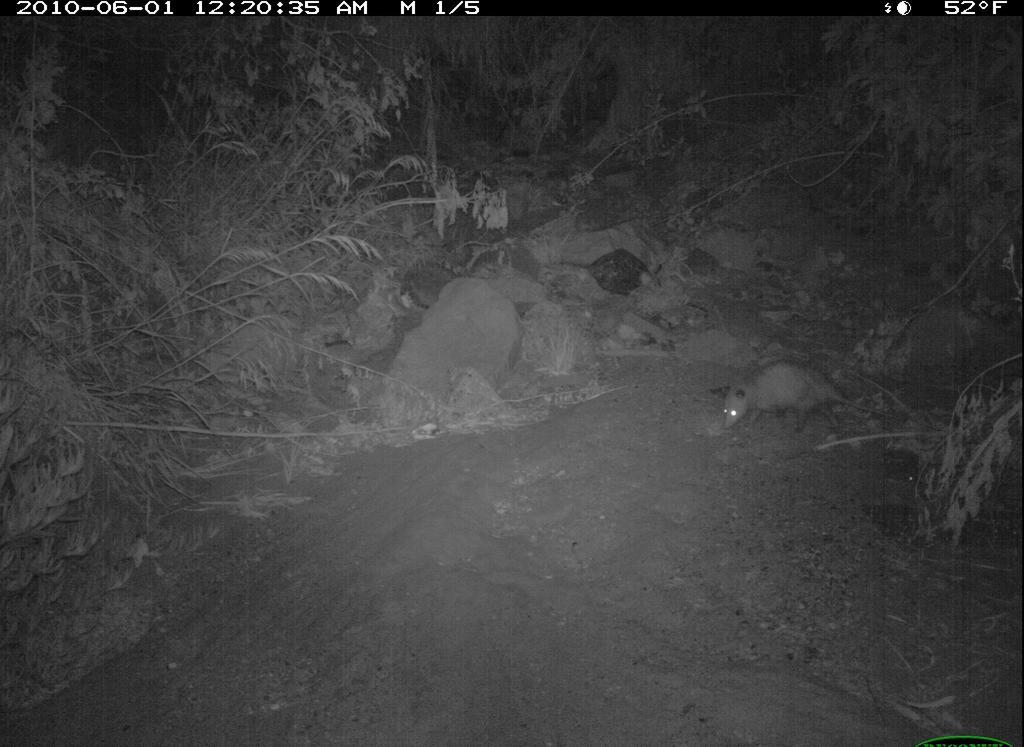opossum: (716, 358, 879, 440)
